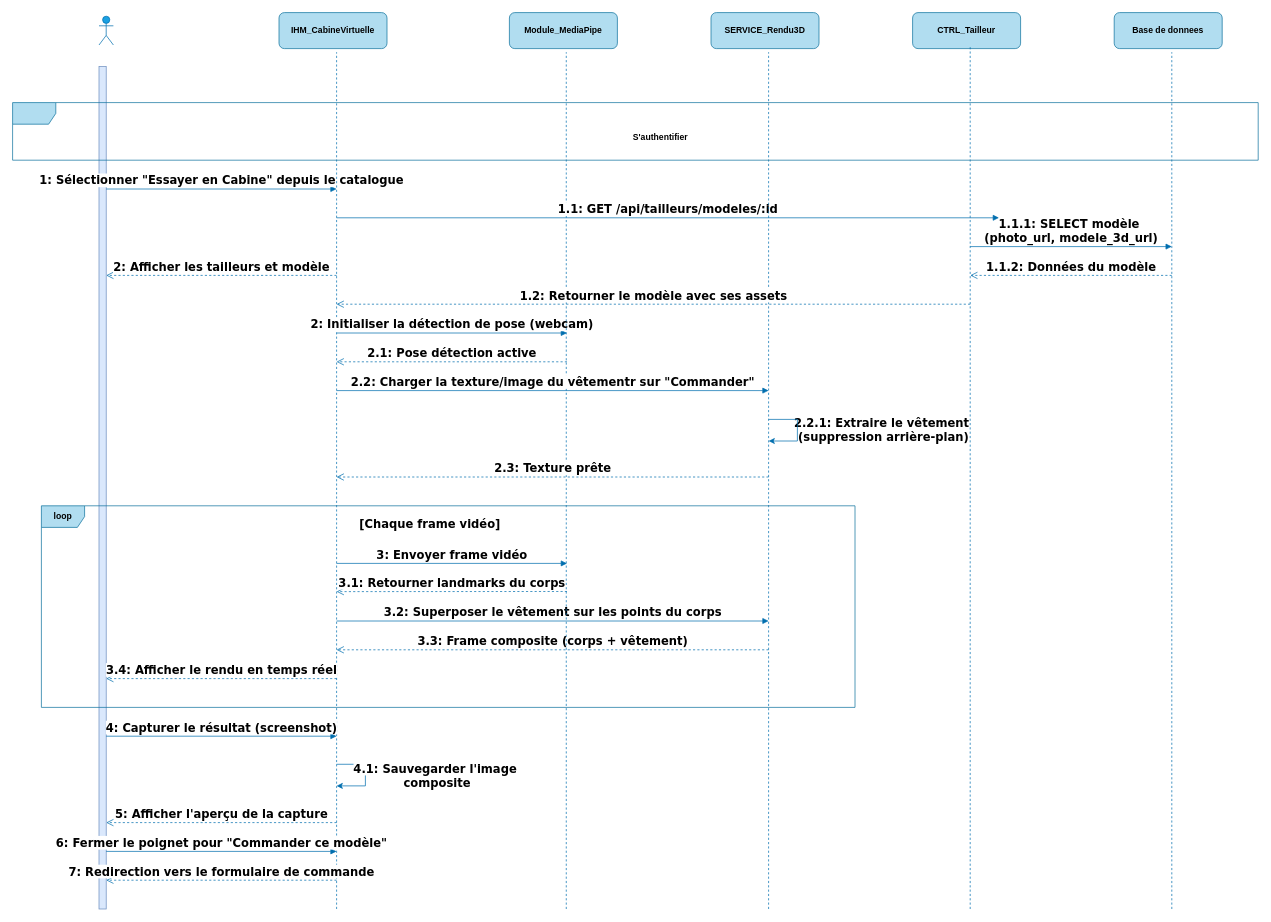
The diagram is 1271 pixels wide and 922 high, and some of its shapes have lost their labels. Each missing label, with the centre of its shape:
Client: the point at 105,30
ref: the point at 635,131
